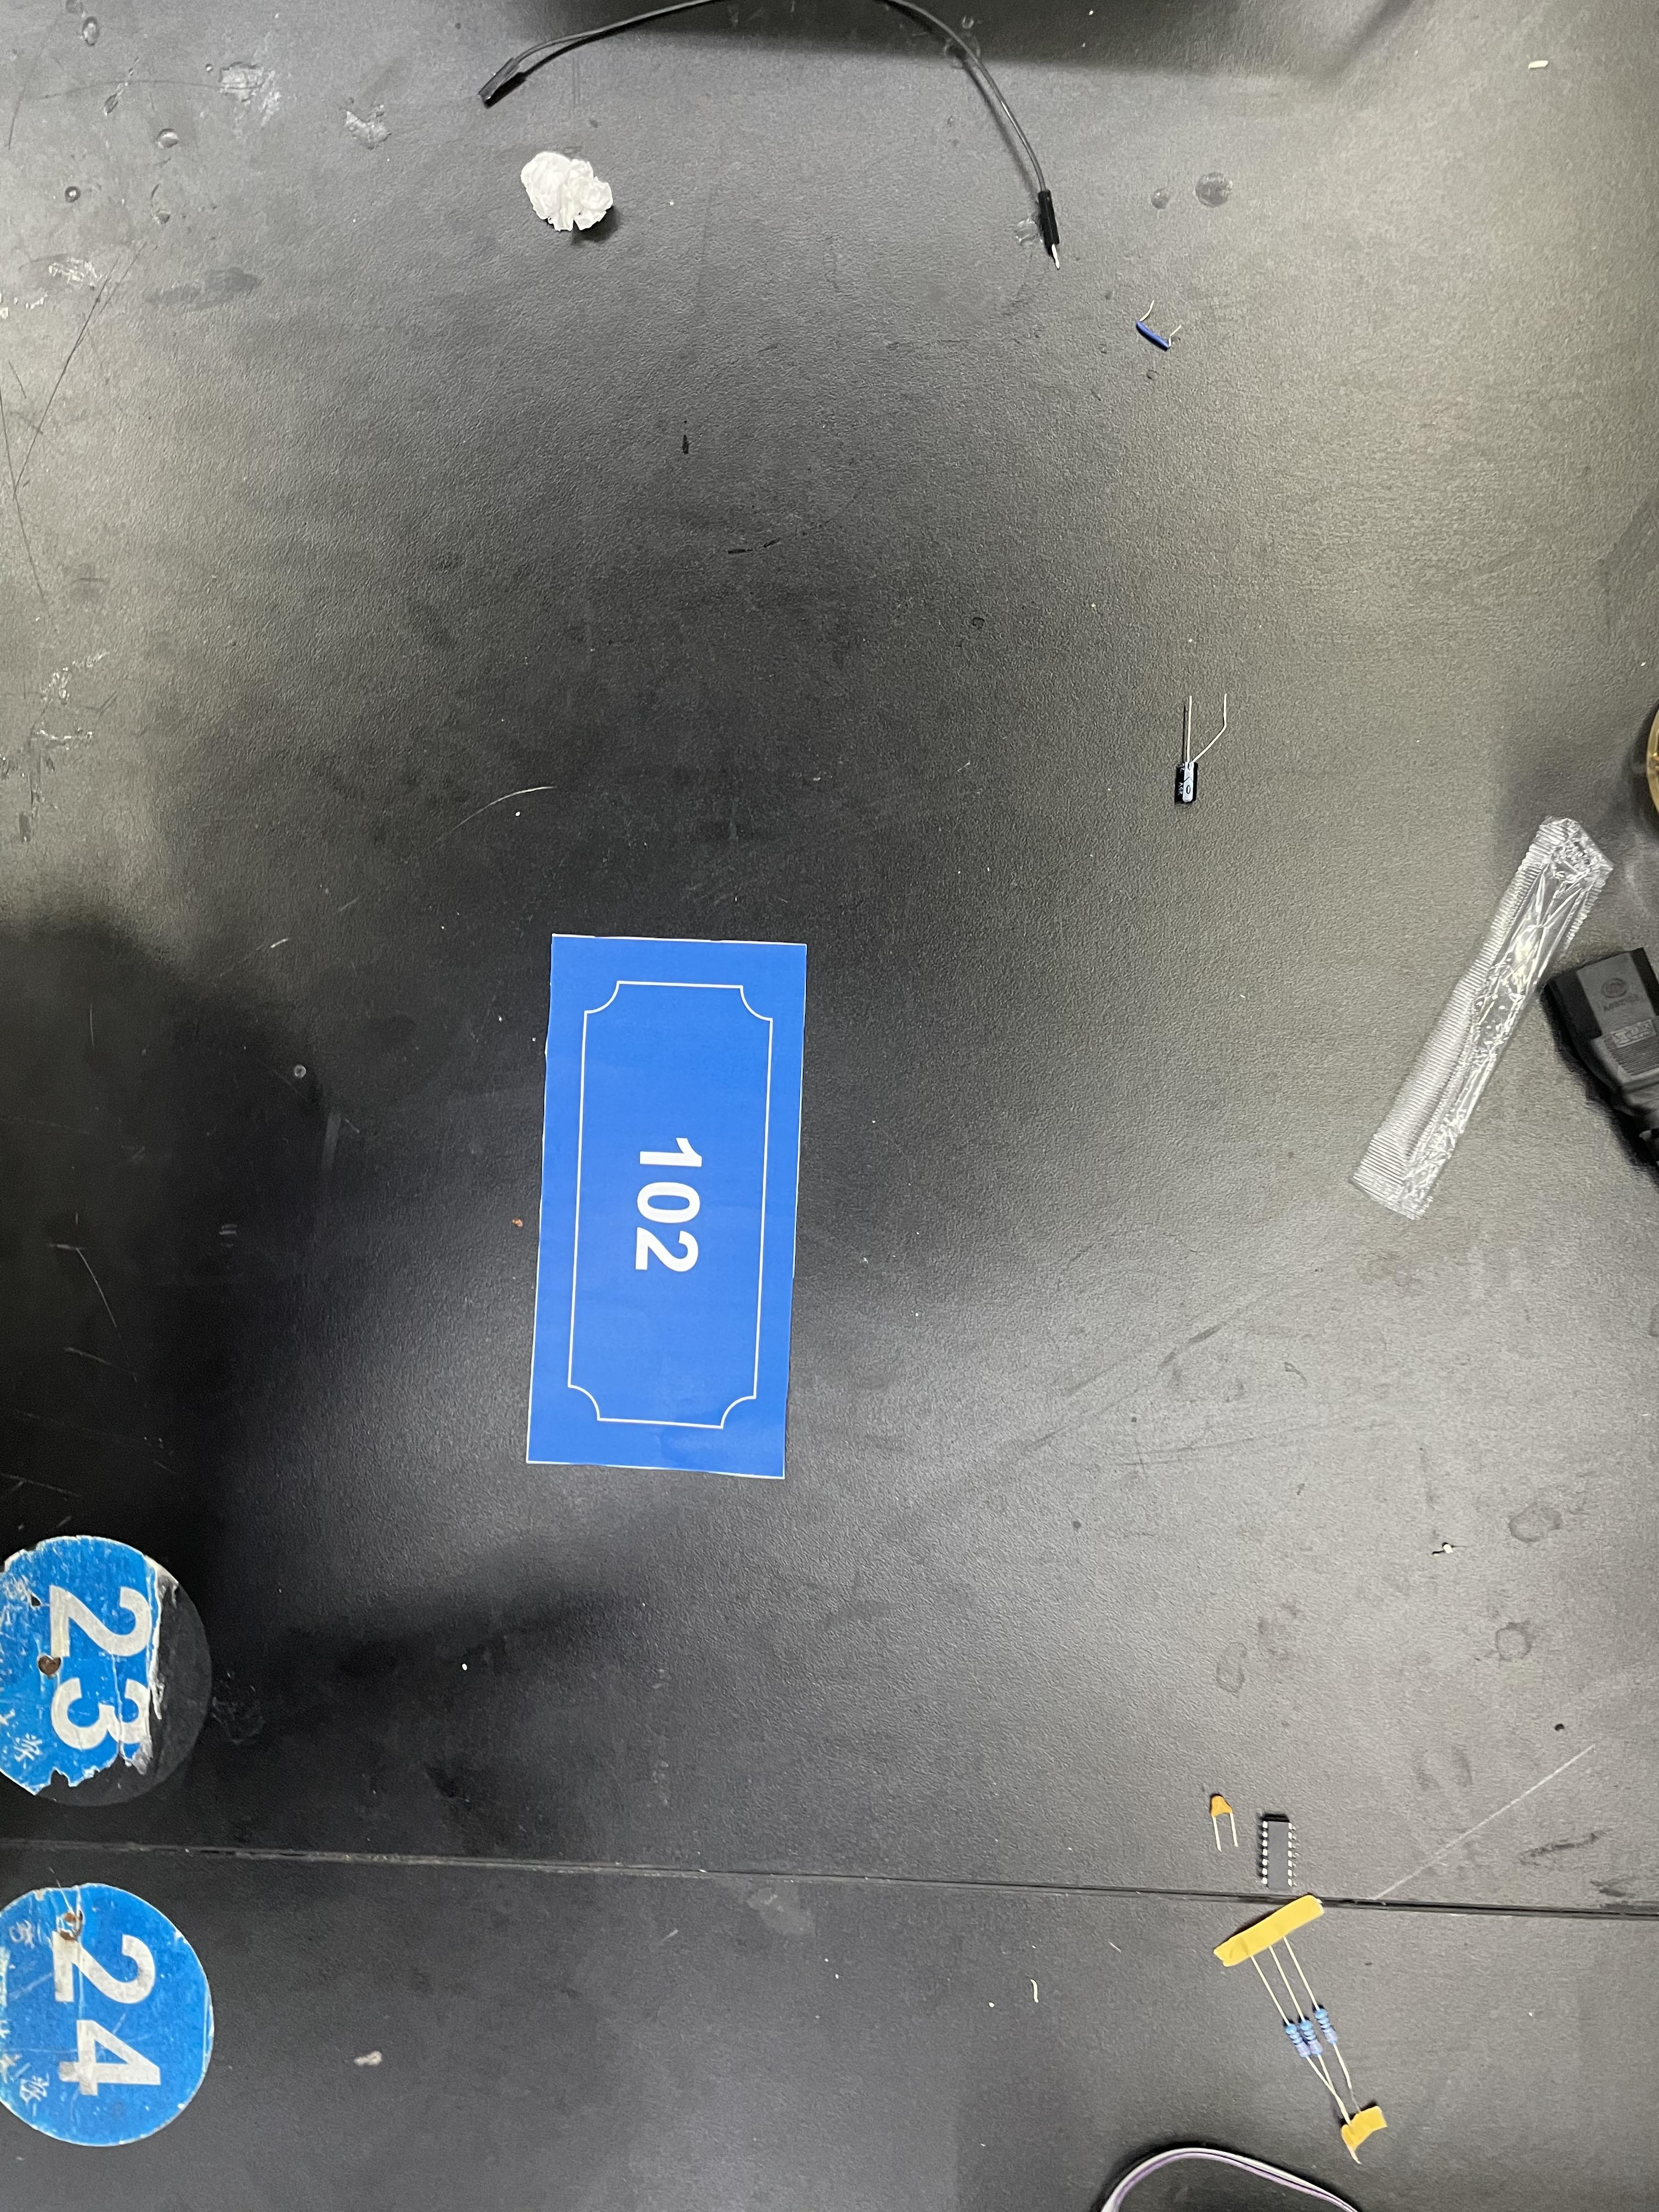Card: (505, 900, 845, 1531)
